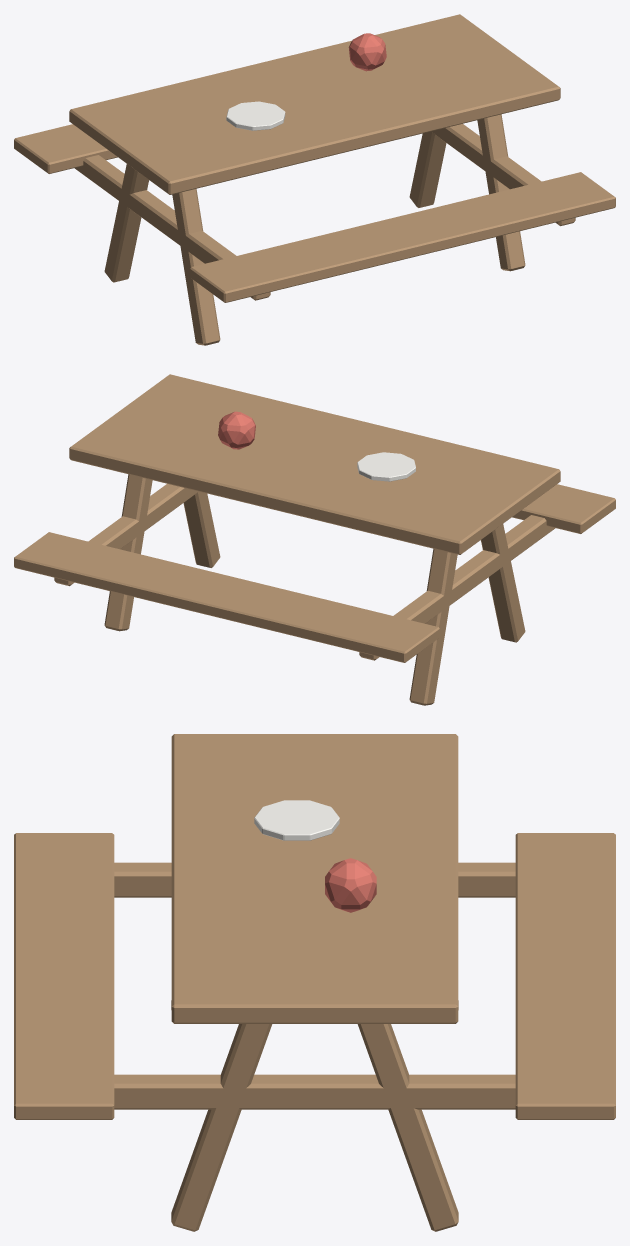
The picture shows the model from 3 angles, top to bottom: view 1: azimuth 30°, elevation 25°; view 2: azimuth 150°, elevation 25°; view 3: azimuth 270°, elevation 25°; orthographic projection. The views are drawn at different scales.
Parts seen in each view (by area): view 1: PicnicTable; view 2: PicnicTable; view 3: PicnicTable.
Boxes of the visible parts, x1,y1,x2,y2 form: PicnicTable: [14, 14, 615, 345]; PicnicTable: [14, 374, 615, 705]; PicnicTable: [14, 734, 615, 1231].
Size of the model in its own units: 1.8 by 0.9415 by 1.68.
